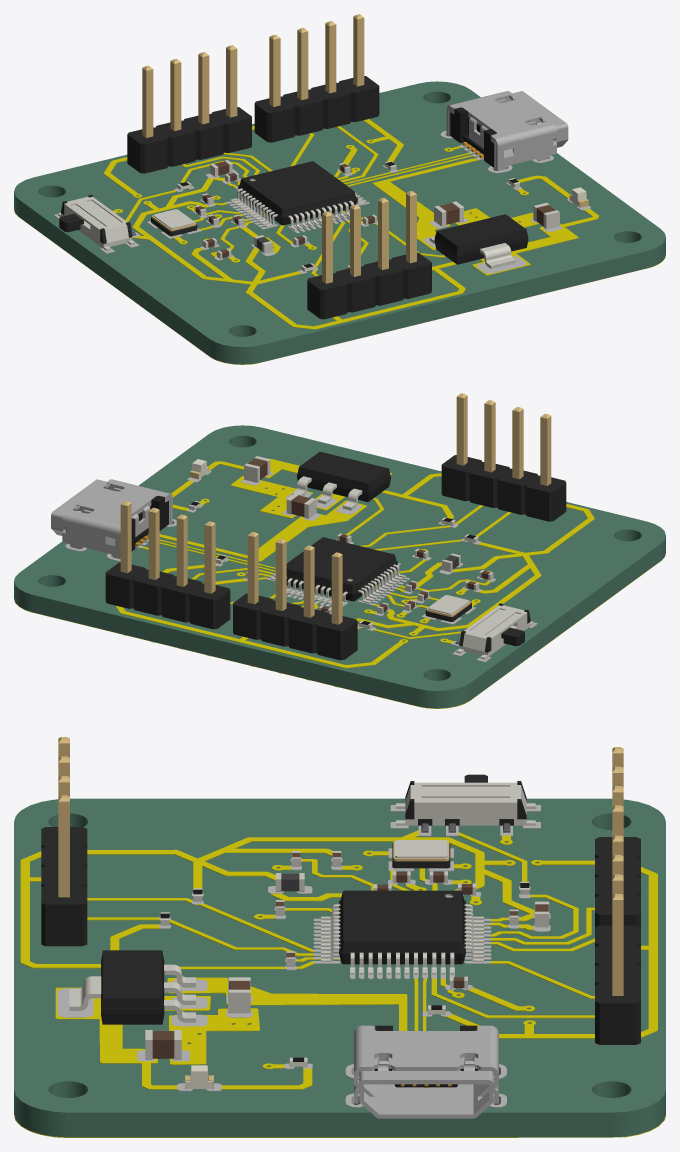
File: stm32-bluepill-sinakarvandi.glb
The picture shows the model from 3 angles, top to bottom: view 1: azimuth 30°, elevation 25°; view 2: azimuth 150°, elevation 25°; view 3: azimuth 270°, elevation 25°; orthographic projection. The views are drawn at different scales.
Parts seen in each view (by area): view 1: =>[0:1:1:17], =>[0:1:1:14], J3, J1, J2, U2, 629105150521_Shielding2, U1, =>[0:1:1:15], SW1, 629105150521_Shielding, 629105150521_Housing (+3 smaller); view 2: =>[0:1:1:17], =>[0:1:1:14], J3, J2, J1, U2, 629105150521_Shielding2, U1, SW1, =>[0:1:1:15], 629105150521_Shielding, Y1 (+3 smaller); view 3: =>[0:1:1:17], =>[0:1:1:14], U2, J2, =>[0:1:1:15], U1, J3, 629105150521_Shielding, 629105150521_Shielding2, SW1, J1, Y1 (+3 smaller).
Part boxes in pixels (x1=…): =>[0:1:1:17]: x1=14, y1=81, x2=665, y2=364; =>[0:1:1:14]: x1=14, y1=119, x2=665, y2=364; J3: x1=254, y1=14, x2=379, y2=142; J1: x1=127, y1=45, x2=251, y2=173; J2: x1=307, y1=191, x2=431, y2=319; U2: x1=230, y1=161, x2=365, y2=230; 629105150521_Shielding2: x1=446, y1=91, x2=556, y2=170; U1: x1=429, y1=214, x2=528, y2=268; =>[0:1:1:15]: x1=54, y1=130, x2=590, y2=273; SW1: x1=58, y1=194, x2=136, y2=250; 629105150521_Shielding: x1=448, y1=91, x2=568, y2=170; 629105150521_Housing: x1=450, y1=107, x2=537, y2=167; =>[0:1:1:17]: x1=14, y1=425, x2=665, y2=708; =>[0:1:1:14]: x1=14, y1=458, x2=665, y2=708; J3: x1=105, y1=501, x2=230, y2=656; J2: x1=441, y1=393, x2=566, y2=521; J1: x1=233, y1=532, x2=357, y2=687; U2: x1=270, y1=537, x2=405, y2=605; 629105150521_Shielding2: x1=62, y1=479, x2=172, y2=559; U1: x1=292, y1=451, x2=390, y2=510; SW1: x1=455, y1=603, x2=533, y2=659; =>[0:1:1:15]: x1=65, y1=470, x2=537, y2=662; 629105150521_Shielding: x1=51, y1=479, x2=170, y2=536; Y1: x1=425, y1=595, x2=471, y2=621; =>[0:1:1:17]: x1=14, y1=798, x2=665, y2=1137; =>[0:1:1:14]: x1=14, y1=830, x2=665, y2=1137; U2: x1=321, y1=890, x2=483, y2=974; J2: x1=41, y1=737, x2=87, y2=946; =>[0:1:1:15]: x1=57, y1=805, x2=550, y2=1107; U1: x1=69, y1=950, x2=195, y2=1024; J3: x1=595, y1=835, x2=640, y2=1044; 629105150521_Shielding: x1=359, y1=1057, x2=493, y2=1118; 629105150521_Shielding2: x1=354, y1=1025, x2=498, y2=1104; SW1: x1=396, y1=774, x2=535, y2=832; J1: x1=595, y1=747, x2=640, y2=927; Y1: x1=392, y1=840, x2=450, y2=868.
Size of the model in its own units: 0.0423 by 0.0115 by 0.036.
